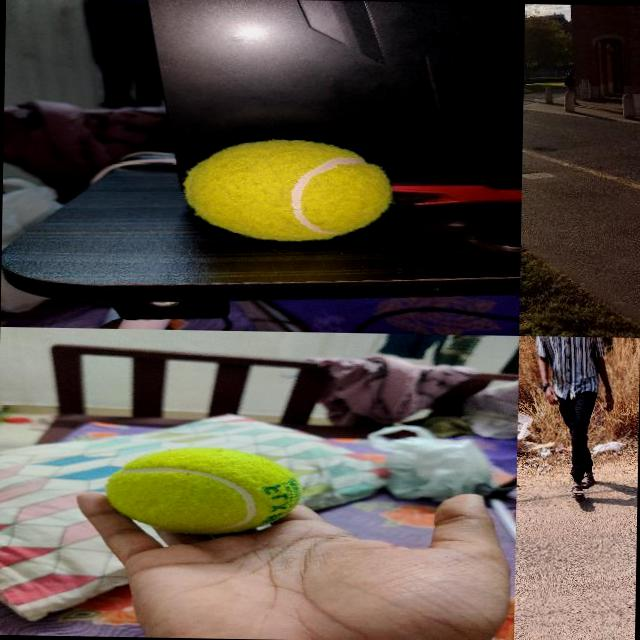Tennis Ball: (184, 136, 394, 242), (104, 446, 304, 536)
